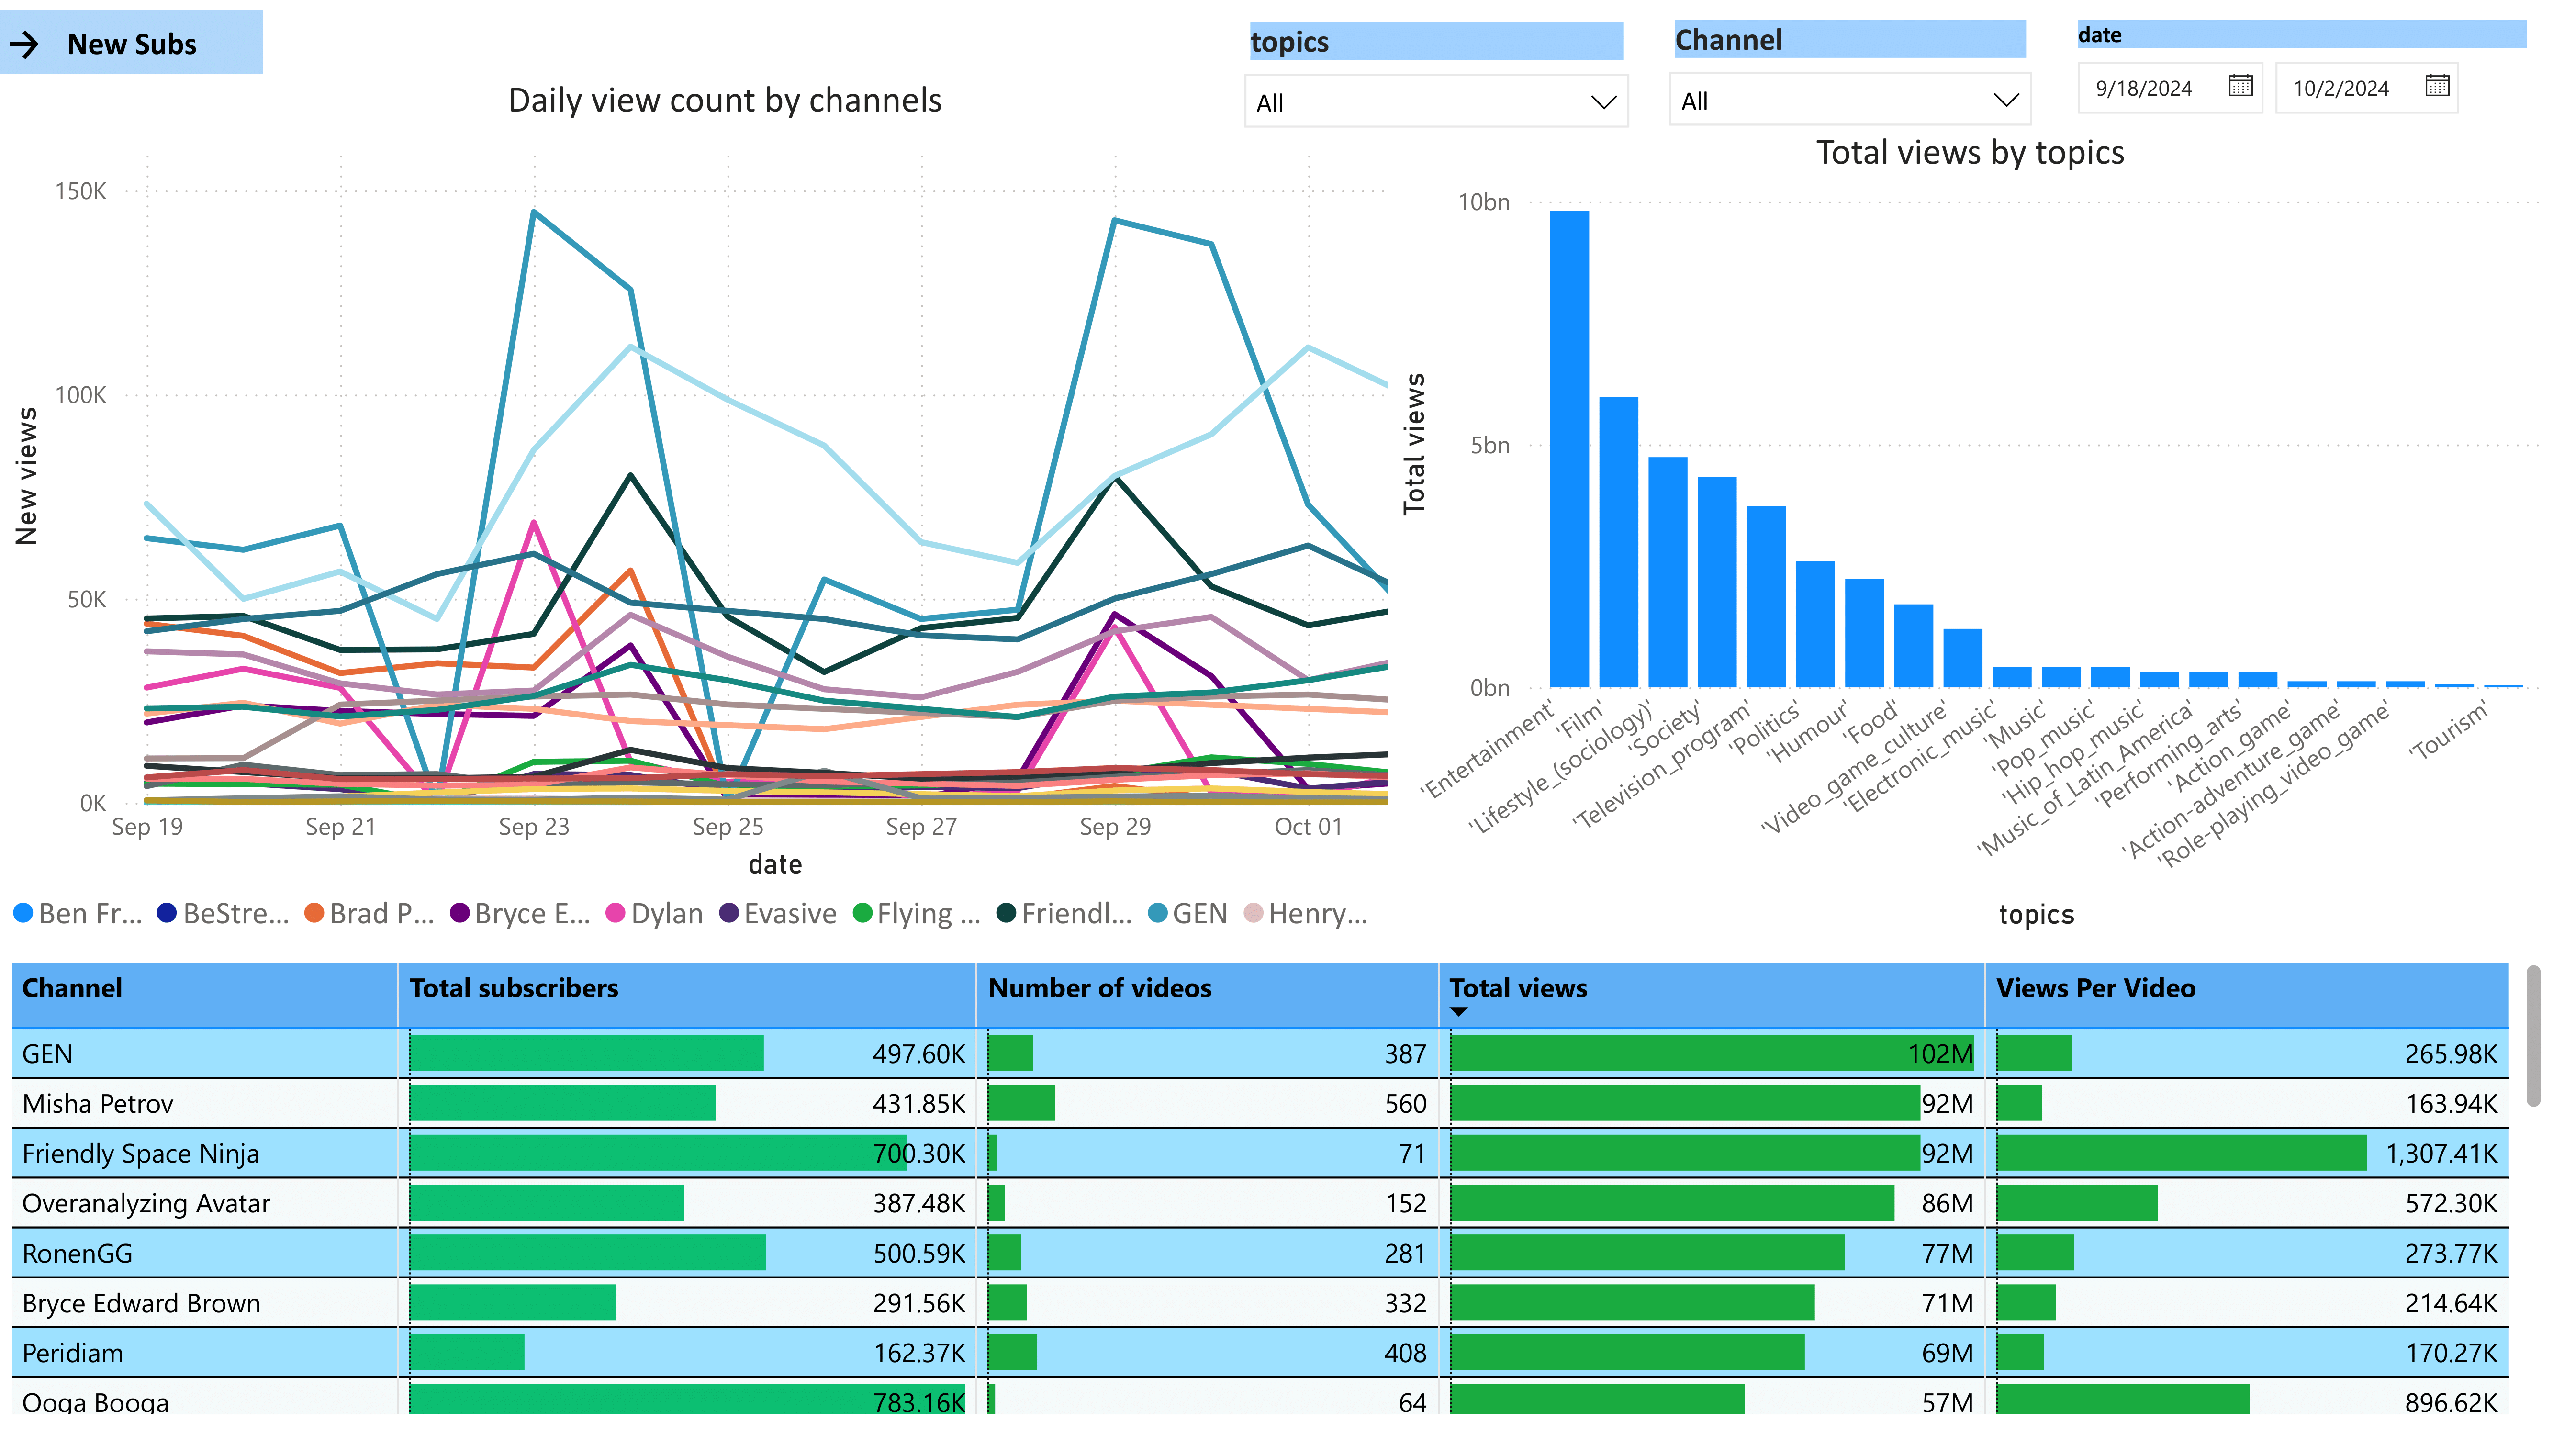

What the dashboard file says about the page in this screenshot:
{"tool":"powerbi","page":{"name":"Page 1","canvas":[1280,720],"ordinal":0},"visuals":[{"type":"shape","box":[0,0,1280,720],"z":0},{"type":"lineChart","title":"Daily view count by channels","fields":{"Series":["youtube_api_new.title"],"Category":["youtube_api_new.date"],"Y":["youtube_api_new.new_views"]},"box":[0,32.5,727.5,440],"z":2000},{"type":"columnChart","title":"Total views by topics","fields":{"Category":["youtube_api_new.topics"],"Y":["youtube_api_new.view_count"]},"box":[695.7,58.6,584.3,407.1],"z":3000},{"type":"actionButton","title":"New Subs","box":[0,0,132.3,32.3],"z":4000},{"type":"tableEx","fields":{"Values":["youtube_api_new.title","youtube_api_new.sub_count","youtube_api_new.video_count","youtube_api_new.view_count","youtube_api_new.views_per_video"]},"box":[0,472.9,1280,235.7],"z":6000},{"type":"slicer","fields":{"Values":["youtube_api_new.title"]},"box":[827,0,202,59],"z":7000},{"type":"slicer","fields":{"Values":["youtube_api_new.topics"]},"box":[614,1,213,58],"z":10000},{"type":"slicer","fields":{"Values":["youtube_api_new.date"]},"box":[1029,0,251,59],"z":11000}]}

Visuals, with their boxes in screenshot pixels (x1, y1, x2, y2), scaled from the page's 1280x720 canvas onto the 2553x1456 screenshot:
shape: x1=0 y1=0 x2=2553 y2=1456
"Daily view count by channels" lineChart: x1=0 y1=66 x2=1451 y2=955
"Total views by topics" columnChart: x1=1388 y1=119 x2=2553 y2=942
"New Subs" actionButton: x1=0 y1=0 x2=264 y2=65
tableEx - youtube_api_new.title x youtube_api_new.sub_count: x1=0 y1=956 x2=2553 y2=1433
slicer - youtube_api_new.title: x1=1649 y1=0 x2=2052 y2=119
slicer - youtube_api_new.topics: x1=1225 y1=2 x2=1649 y2=119
slicer - youtube_api_new.date: x1=2052 y1=0 x2=2553 y2=119
